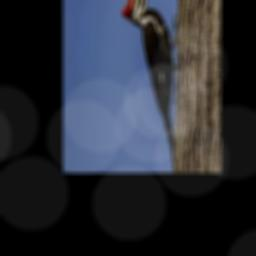Woodpecker: (122, 0, 178, 167)
